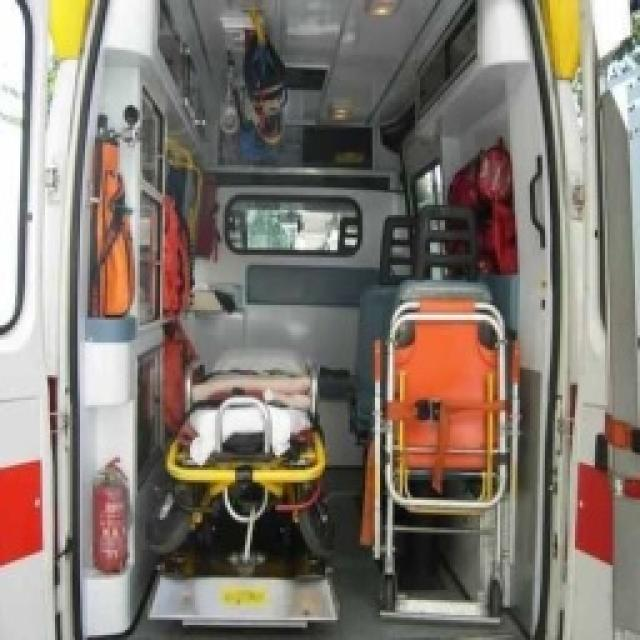ambulance: (2, 5, 210, 640)
